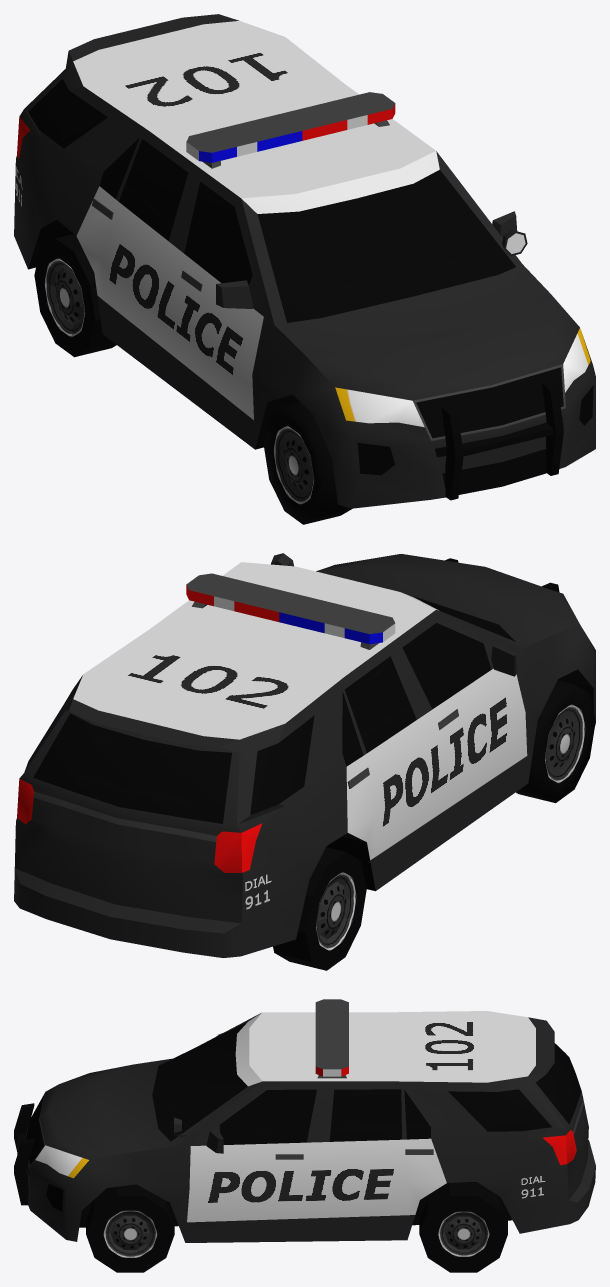
File: policeinterceptorlowpoly3 (1).glb
3 views of the same model, one above another, from view 1: azimuth 30°, elevation 25°; view 2: azimuth 150°, elevation 25°; view 3: azimuth 270°, elevation 25° (orthographic). The views are drawn at different scales.
Parts seen in each view (by area): view 1: P4.Body, P4.Wheel.Ft.R, P4.Wheel.Bk.R; view 2: P4.Body, P4.Wheel.Bk.R, P4.Wheel.Ft.R; view 3: P4.Body, P4.Wheel.Bk.L, P4.Wheel.Ft.L.
Part boxes in pixels (bbox=[...]): P4.Body: bbox=[14, 14, 595, 508]; P4.Wheel.Ft.R: bbox=[263, 402, 352, 524]; P4.Wheel.Bk.R: bbox=[34, 234, 116, 357]; P4.Body: bbox=[14, 553, 595, 957]; P4.Wheel.Bk.R: bbox=[273, 847, 366, 970]; P4.Wheel.Ft.R: bbox=[516, 680, 595, 803]; P4.Body: bbox=[14, 999, 595, 1242]; P4.Wheel.Bk.L: bbox=[419, 1182, 507, 1272]; P4.Wheel.Ft.L: bbox=[86, 1184, 174, 1272].
Bounding box in the file's own units: 2.19 × 1.82 × 5.07.
Materials: 5 (5 with a texture image).
